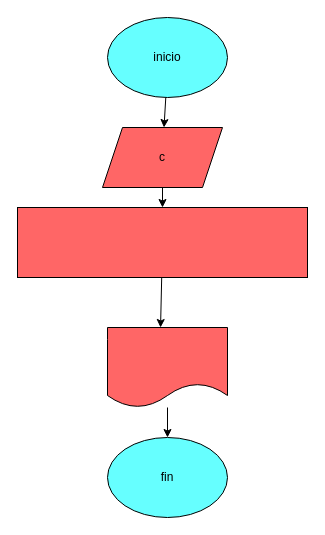
This 325x535 diagram has some shape labels left out. The shapes that lost their labels are listed below. From the top down, each one's box as (x1, y1, x2, y2) in pixels, then its label:
(16, 206, 308, 278): f = (°c*9/5) + 32 k = °c + 273.15
(106, 326, 228, 408): f,k
